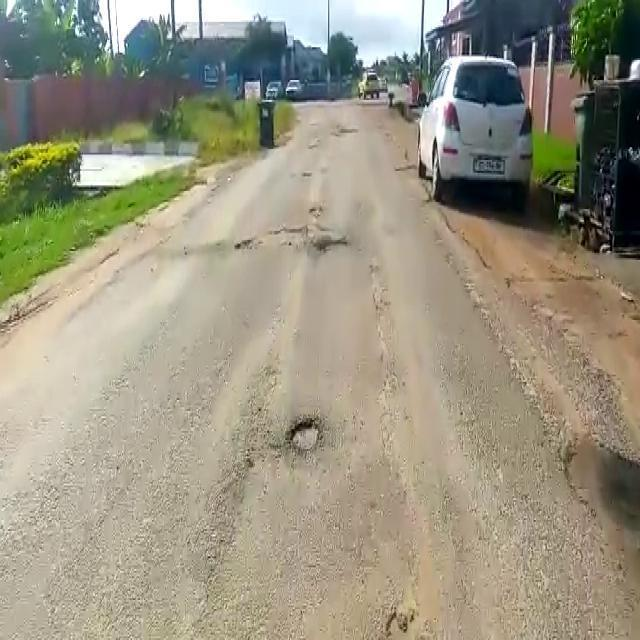pothole: (234, 227, 307, 254), (286, 413, 326, 456), (312, 233, 350, 253)
